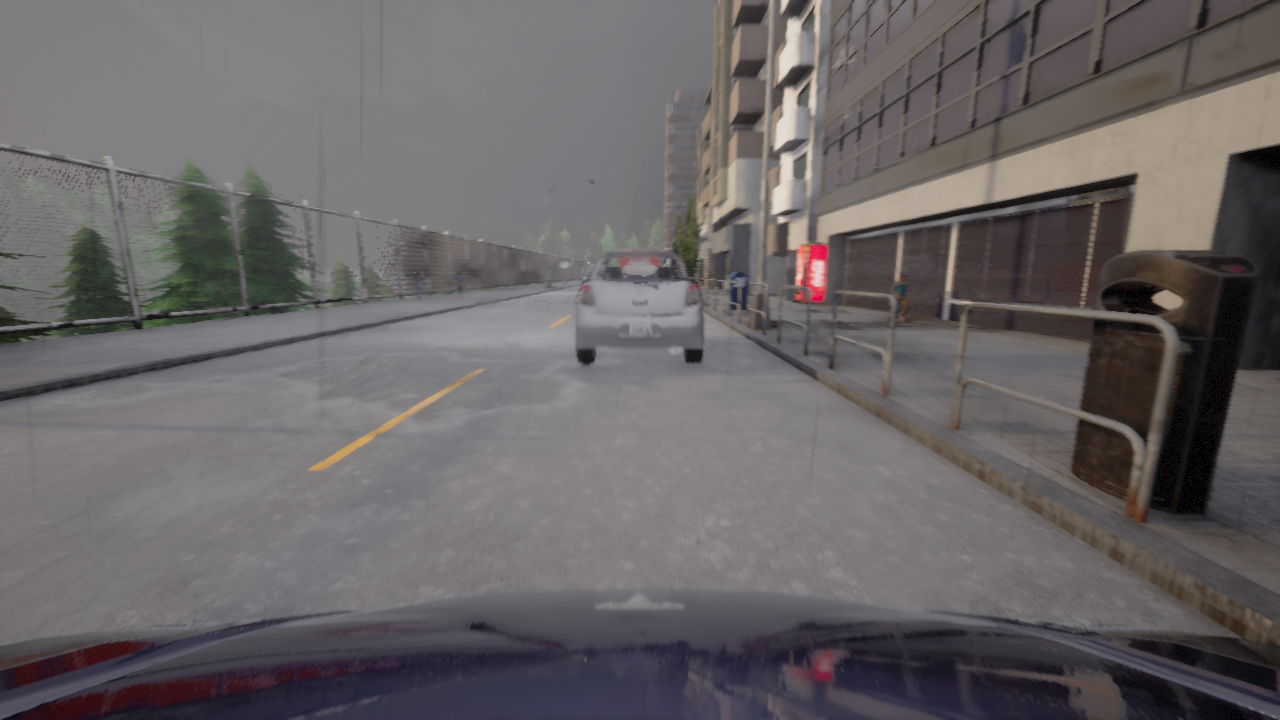cyclist: (0, 588, 1279, 719), (575, 251, 704, 364), (586, 271, 592, 281), (620, 249, 658, 250)
pedestrian: (892, 274, 908, 320), (412, 271, 423, 299), (454, 271, 464, 298)
